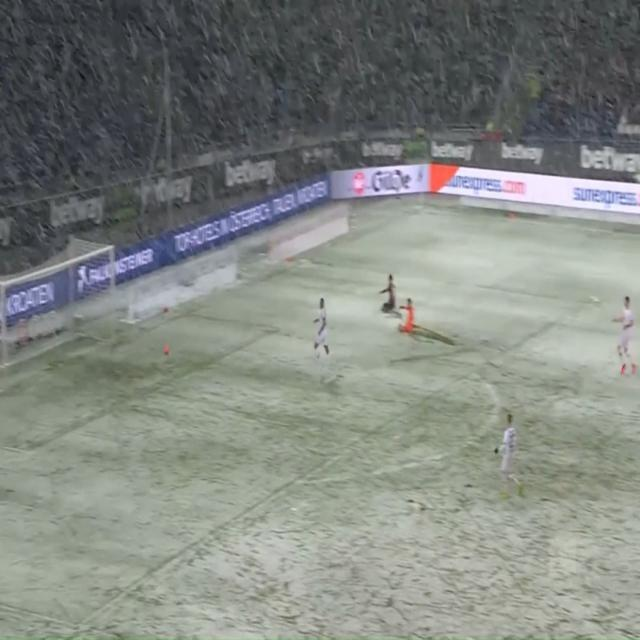ball: (162, 342, 173, 359)
goalkeeper: (399, 291, 423, 343)
player: (490, 403, 524, 504), (610, 288, 638, 379), (308, 291, 334, 373), (372, 271, 401, 319)
